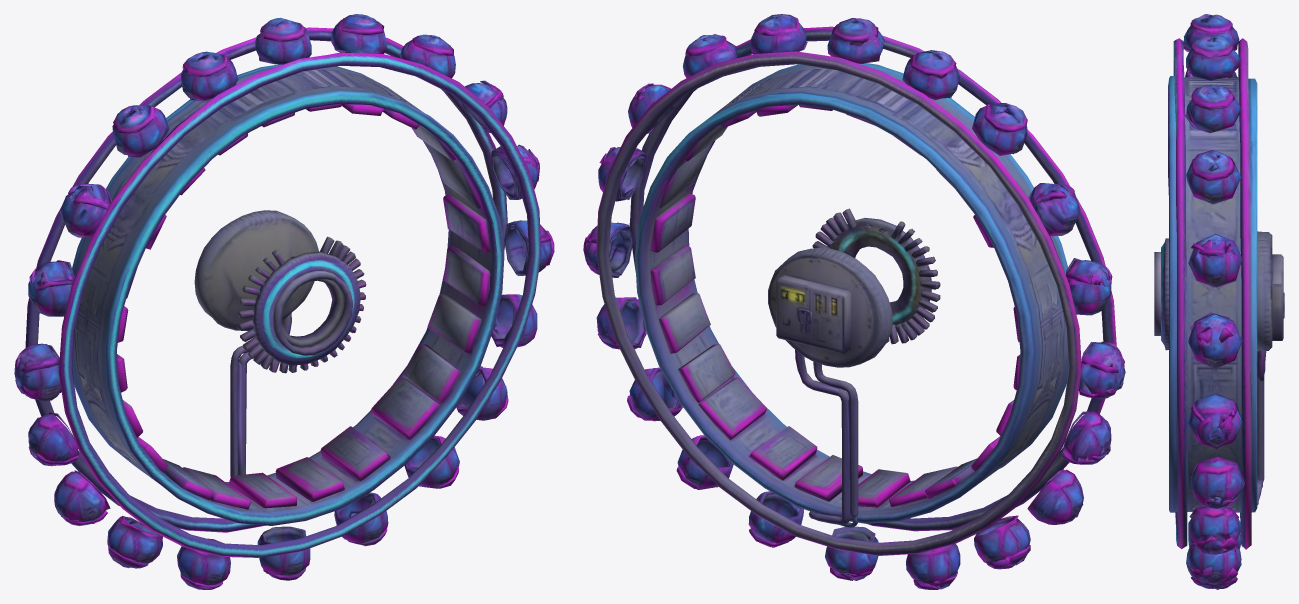
The model's file is ferris_wheel.glb.
3 views of the same model, side by side, from view 1: azimuth 30°, elevation 25°; view 2: azimuth 150°, elevation 25°; view 3: azimuth 270°, elevation 25° (orthographic). The views are drawn at different scales.
Visible parts, largest first — view 1: tripo_node_0d762999-add6-449c-9195-8e4ca953a038; view 2: tripo_node_0d762999-add6-449c-9195-8e4ca953a038; view 3: tripo_node_0d762999-add6-449c-9195-8e4ca953a038.
Part boxes in pixels (x1,y1,x2,y2): tripo_node_0d762999-add6-449c-9195-8e4ca953a038: [14, 14, 554, 589]; tripo_node_0d762999-add6-449c-9195-8e4ca953a038: [583, 14, 1125, 589]; tripo_node_0d762999-add6-449c-9195-8e4ca953a038: [1154, 14, 1284, 589].
Size of the model in its own units: 0.998 by 0.998 by 0.2246.
Materials: 1 (1 with a texture image).
